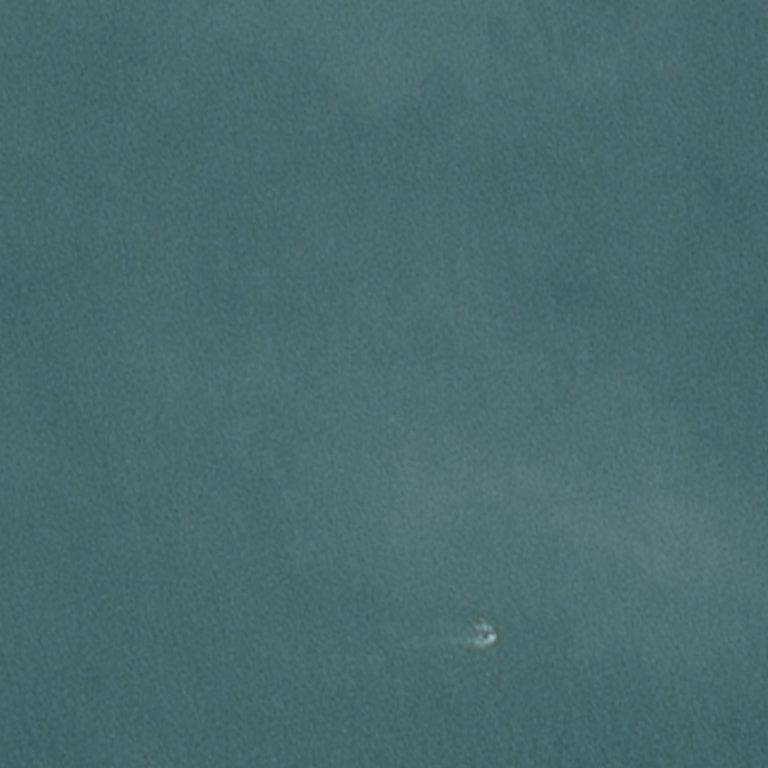ship: (474, 625, 498, 649)
